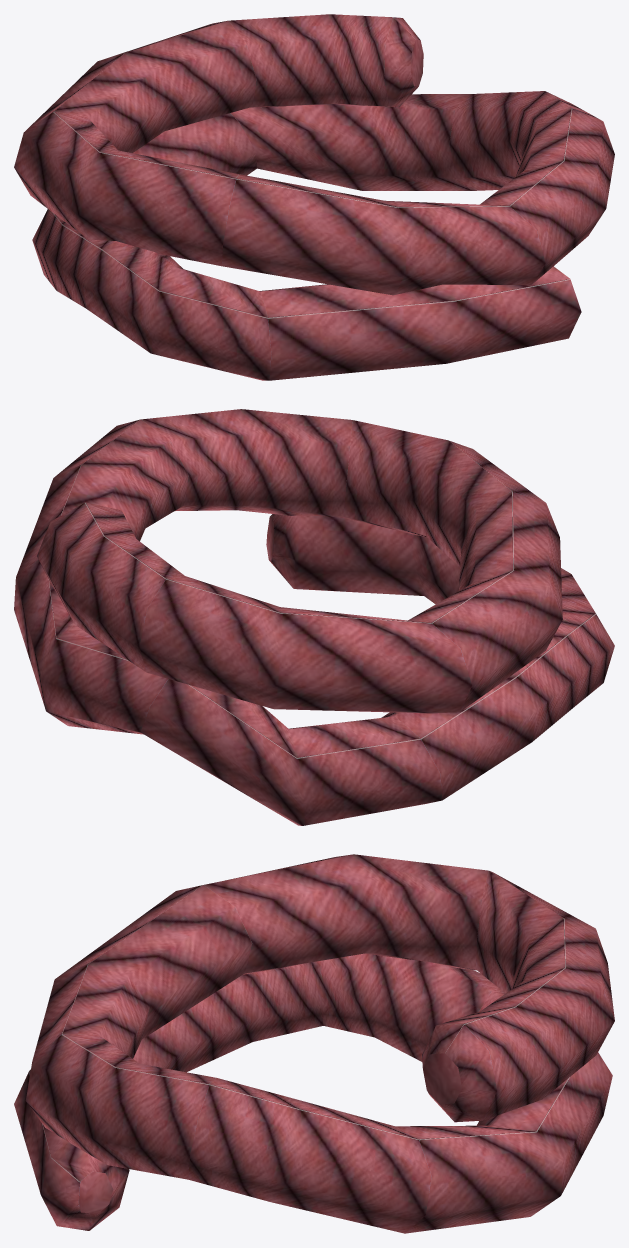
Rendered from rope.fbx.
3 renders of one model, top to bottom at view 1: azimuth 30°, elevation 25°; view 2: azimuth 150°, elevation 25°; view 3: azimuth 270°, elevation 25°, orthographic. The views are drawn at different scales.
Parts seen in each view (by area): view 1: Rope:Coil_Rope_birchLimb2Main1Cable_Hist_01Rope; view 2: Rope:Coil_Rope_birchLimb2Main1Cable_Hist_01Rope; view 3: Rope:Coil_Rope_birchLimb2Main1Cable_Hist_01Rope.
Boxes of the visible parts, x1=… form: Rope:Coil_Rope_birchLimb2Main1Cable_Hist_01Rope: x1=14, y1=14, x2=614, y2=380; Rope:Coil_Rope_birchLimb2Main1Cable_Hist_01Rope: x1=14, y1=409, x2=614, y2=825; Rope:Coil_Rope_birchLimb2Main1Cable_Hist_01Rope: x1=14, y1=854, x2=614, y2=1233.
Size of the model in its own units: 21.03 by 8.45 by 19.89.
